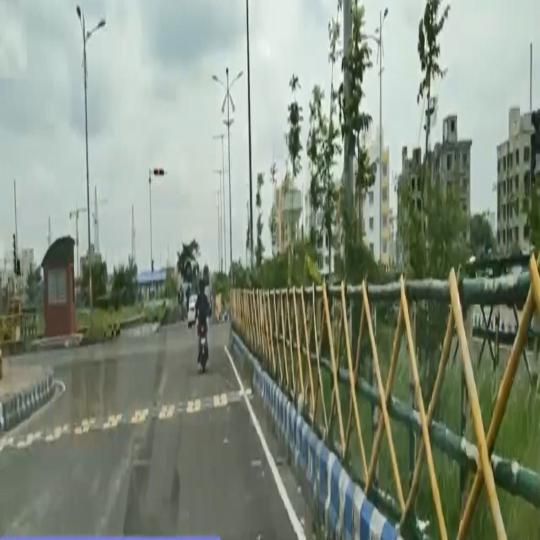Speed Bump: (0, 386, 254, 449)
